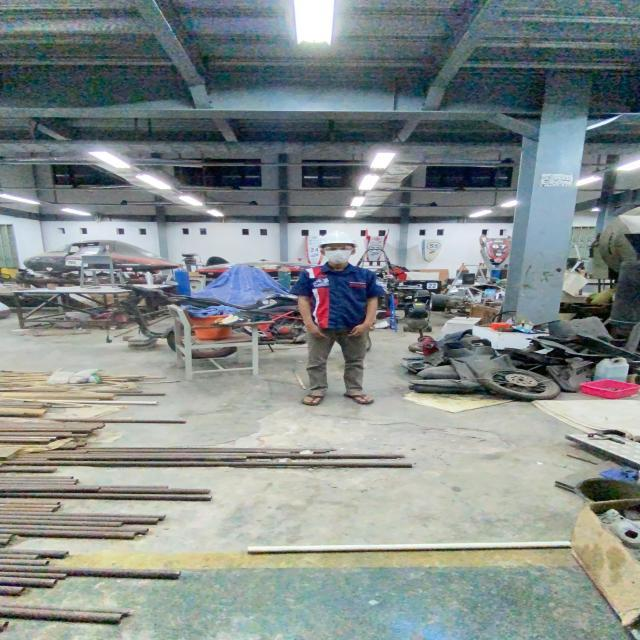glasses: (320, 245, 356, 253)
